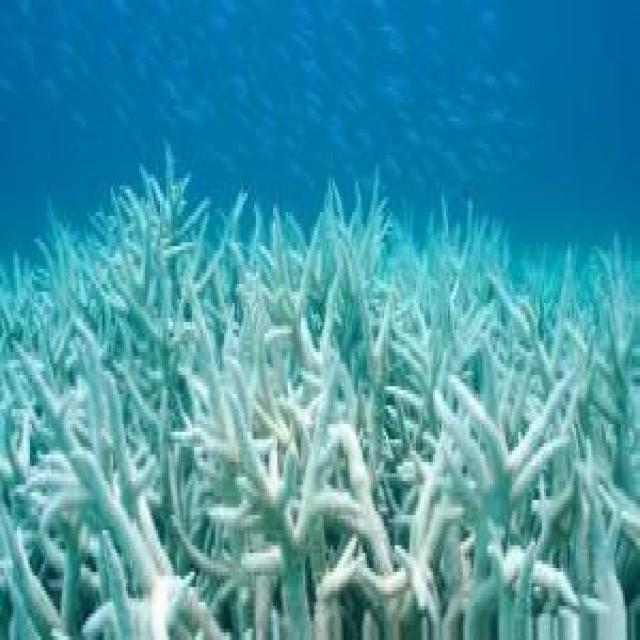bleached coral: (173, 458, 284, 579), (307, 345, 365, 515), (318, 557, 410, 640), (425, 428, 489, 534), (124, 382, 179, 504), (510, 398, 565, 515), (77, 492, 137, 579), (250, 345, 294, 428)
healthy coral: (433, 239, 580, 345), (30, 204, 151, 292), (318, 204, 395, 284), (169, 276, 233, 364), (4, 360, 70, 443), (580, 345, 631, 451), (213, 197, 241, 223)
